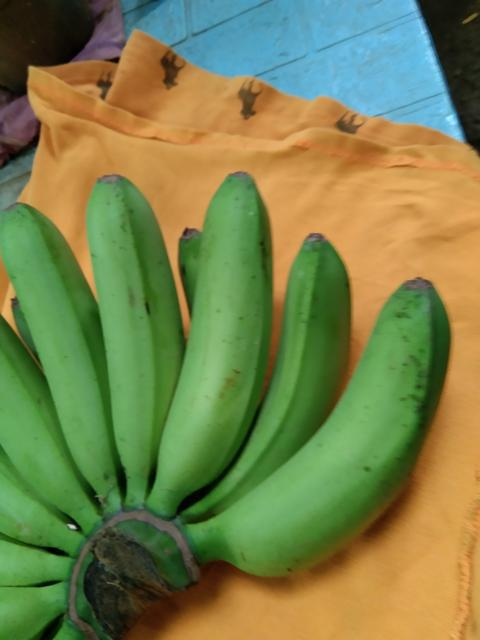freshunripe: (202, 260, 456, 584), (186, 220, 357, 520), (147, 158, 271, 511), (0, 180, 134, 499)
